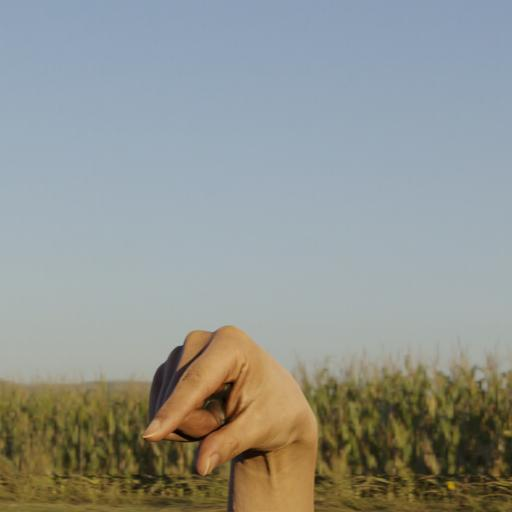Q: (133, 313, 342, 486)
